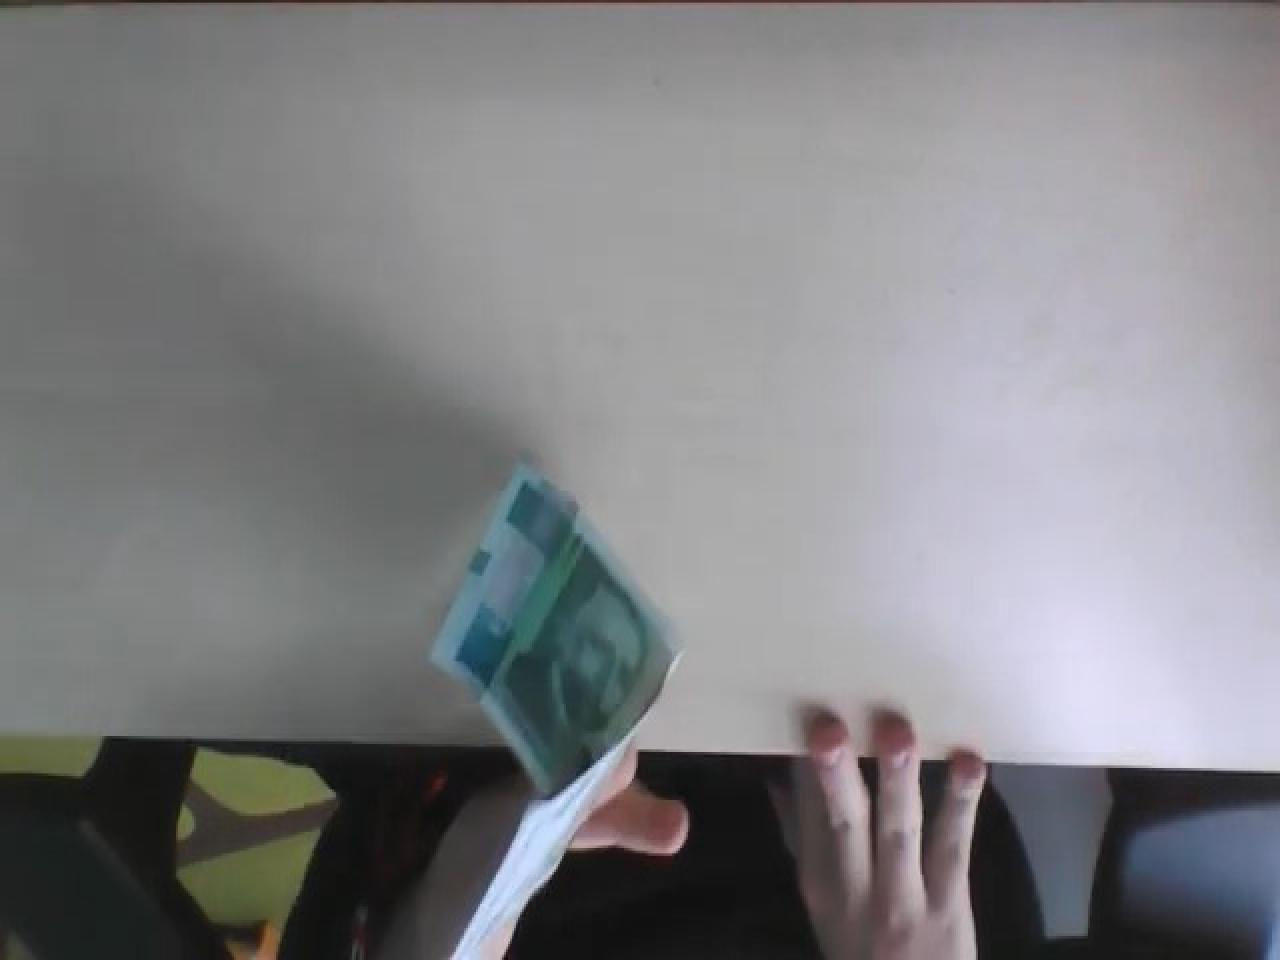100leva: (428, 459, 686, 803)
